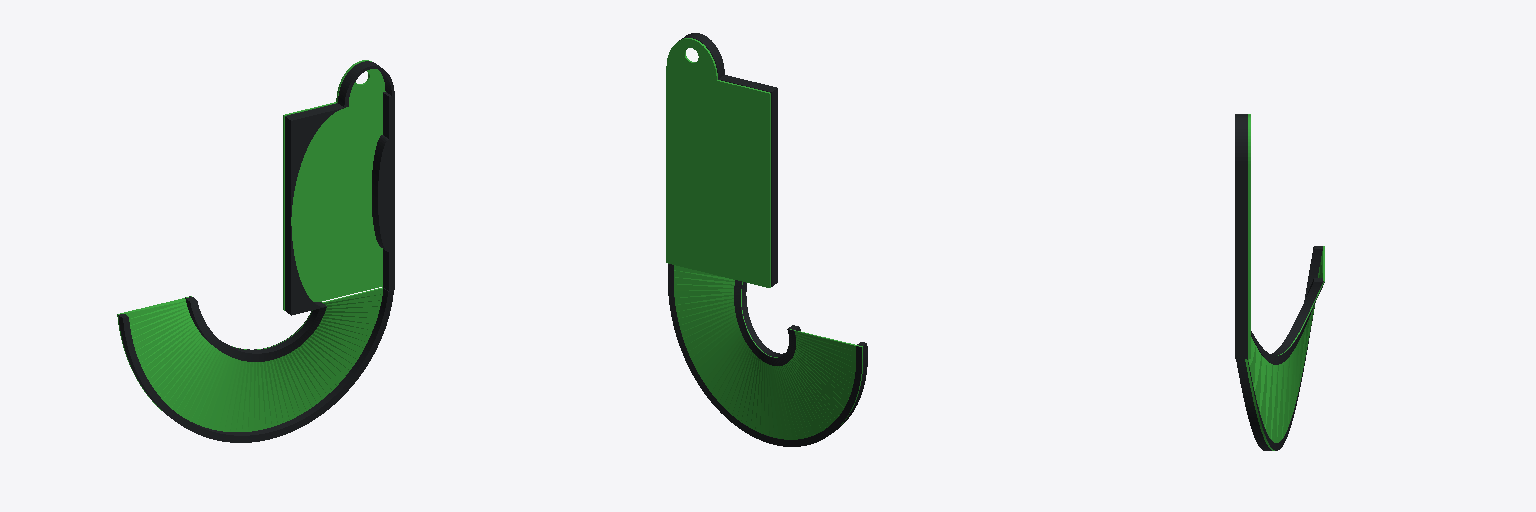
File: Ramp.obj
The picture shows the model from 3 angles: view 1: azimuth 30°, elevation 25°; view 2: azimuth 150°, elevation 25°; view 3: azimuth 270°, elevation 25°; orthographic projection.
Parts seen in each view (by area): view 1: obj_0; view 2: obj_0; view 3: obj_0.
Part boxes in pixels (left/top/right/bottom): obj_0: left=117, top=60, right=394, bottom=442; obj_0: left=666, top=33, right=867, bottom=446; obj_0: left=1235, top=114, right=1324, bottom=450.
Bounding box in the file's own units: 166 × 251 × 56.